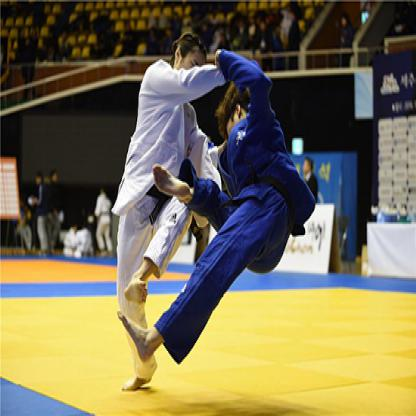Fall_Down: (115, 50, 302, 370)
